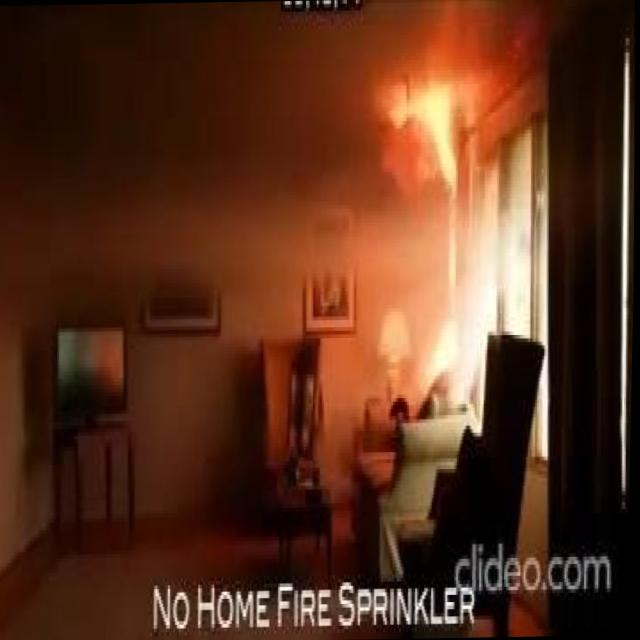fire: (381, 80, 461, 196), (425, 245, 459, 368)
